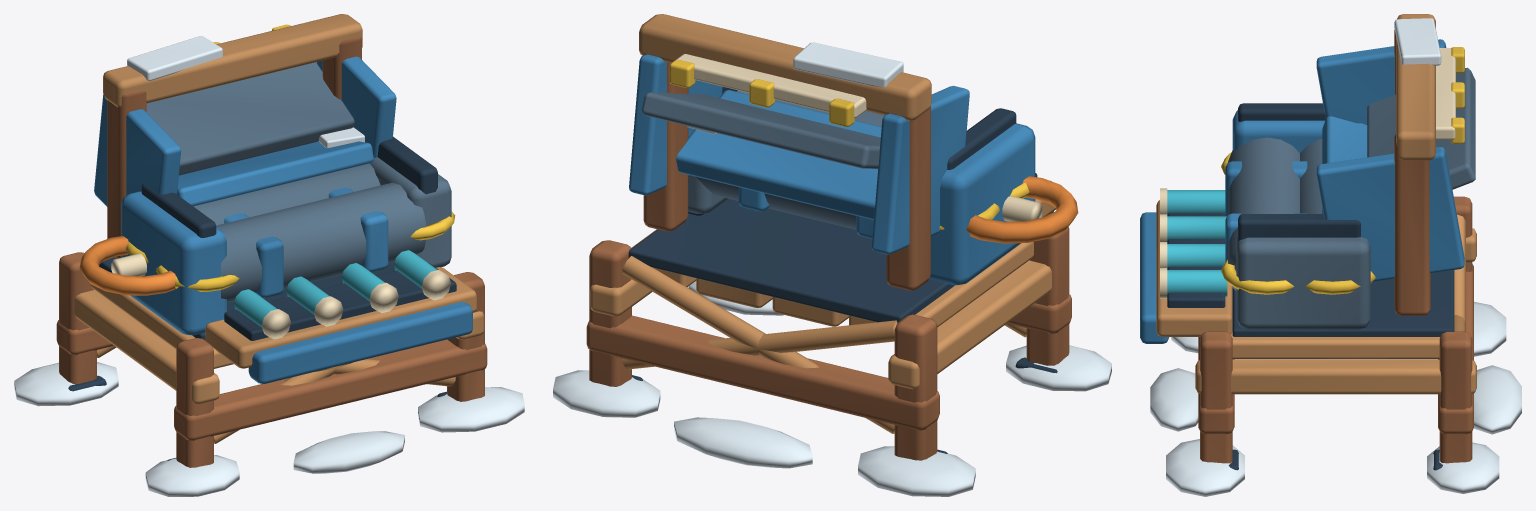
The model's file is intake_machine.glb.
3 views of the same model, side by side, from view 1: azimuth 30°, elevation 25°; view 2: azimuth 150°, elevation 25°; view 3: azimuth 270°, elevation 25° (orthographic). The views are drawn at different scales.
Visible parts, largest first — view 1: intake_machine; view 2: intake_machine; view 3: intake_machine.
Part boxes in pixels (x1,y1,x2,y2): intake_machine: (14,14,524,496); intake_machine: (553,14,1111,496); intake_machine: (1140,14,1521,496).
Bounding box in the file's own units: 2.51 × 2.12 × 2.1.
